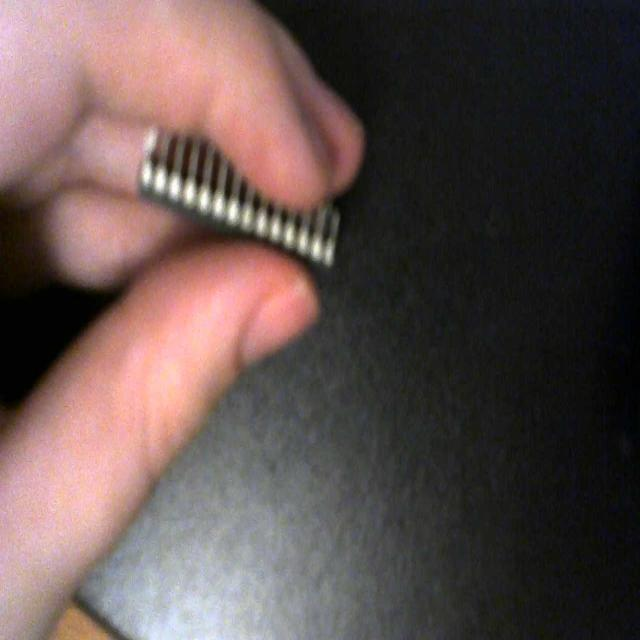atmega: (135, 120, 343, 274)
